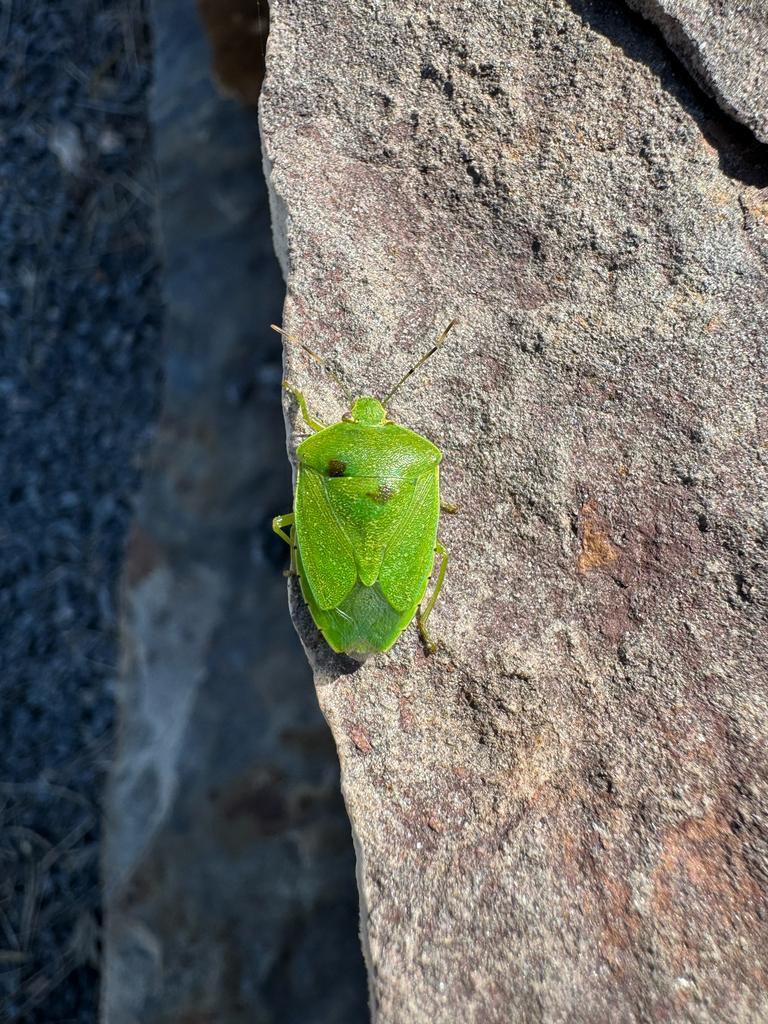stink_bugs: (203, 276, 527, 710)
